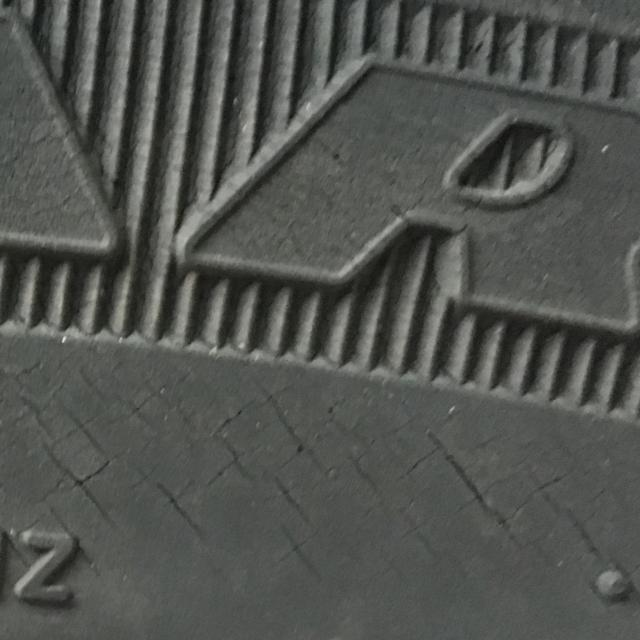Cracks: (0, 320, 640, 640), (169, 0, 599, 300), (0, 0, 127, 280)
